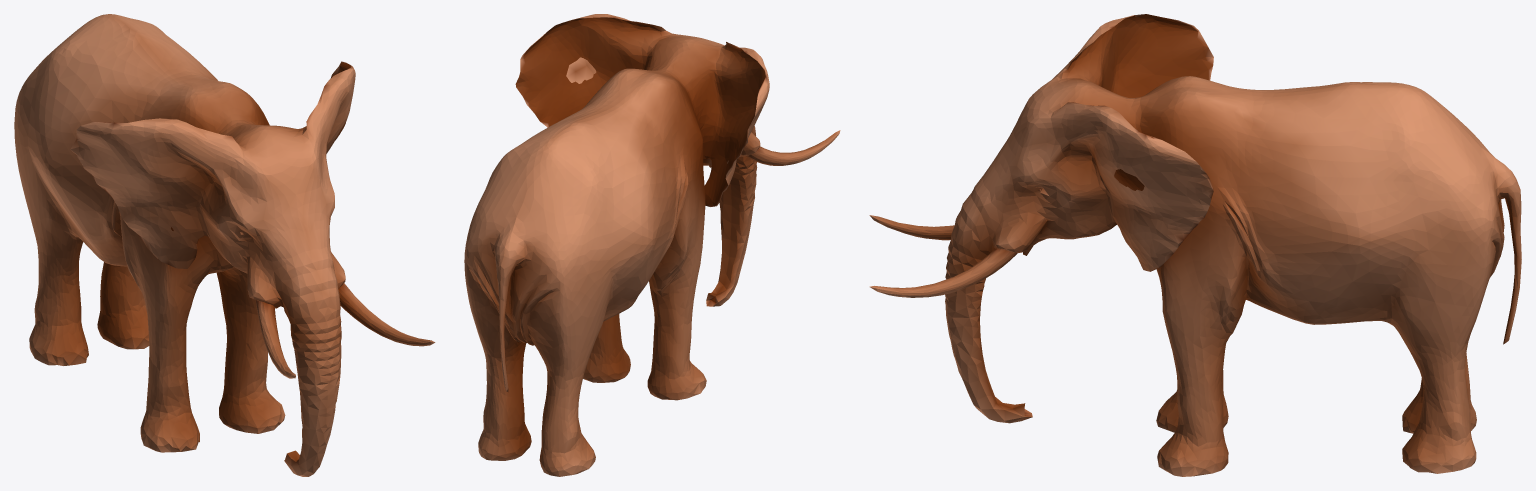
File: elephant16KC.obj
3 renders of one model, left to right at view 1: azimuth 30°, elevation 25°; view 2: azimuth 150°, elevation 25°; view 3: azimuth 270°, elevation 25°, orthographic. The views are drawn at different scales.
Size of the model in its own units: 22.71 by 29.75 by 46.68.
